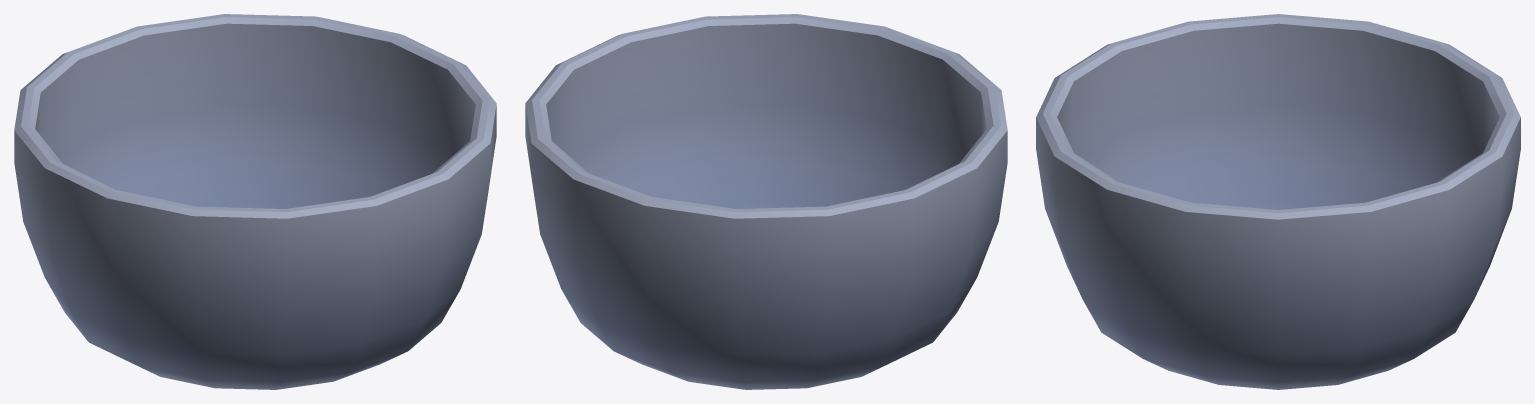
File: Bowl.fbx
3 renders of one model, left to right at view 1: azimuth 30°, elevation 25°; view 2: azimuth 150°, elevation 25°; view 3: azimuth 270°, elevation 25°, orthographic.
Parts seen in each view (by area): view 1: Bowl; view 2: Bowl; view 3: Bowl.
Boxes of the visible parts, left/top/right/bottom form: Bowl: left=14, top=14, right=496, bottom=389; Bowl: left=525, top=14, right=1007, bottom=389; Bowl: left=1036, top=14, right=1520, bottom=389.
Size of the model in its own units: 200 by 110 by 200.
